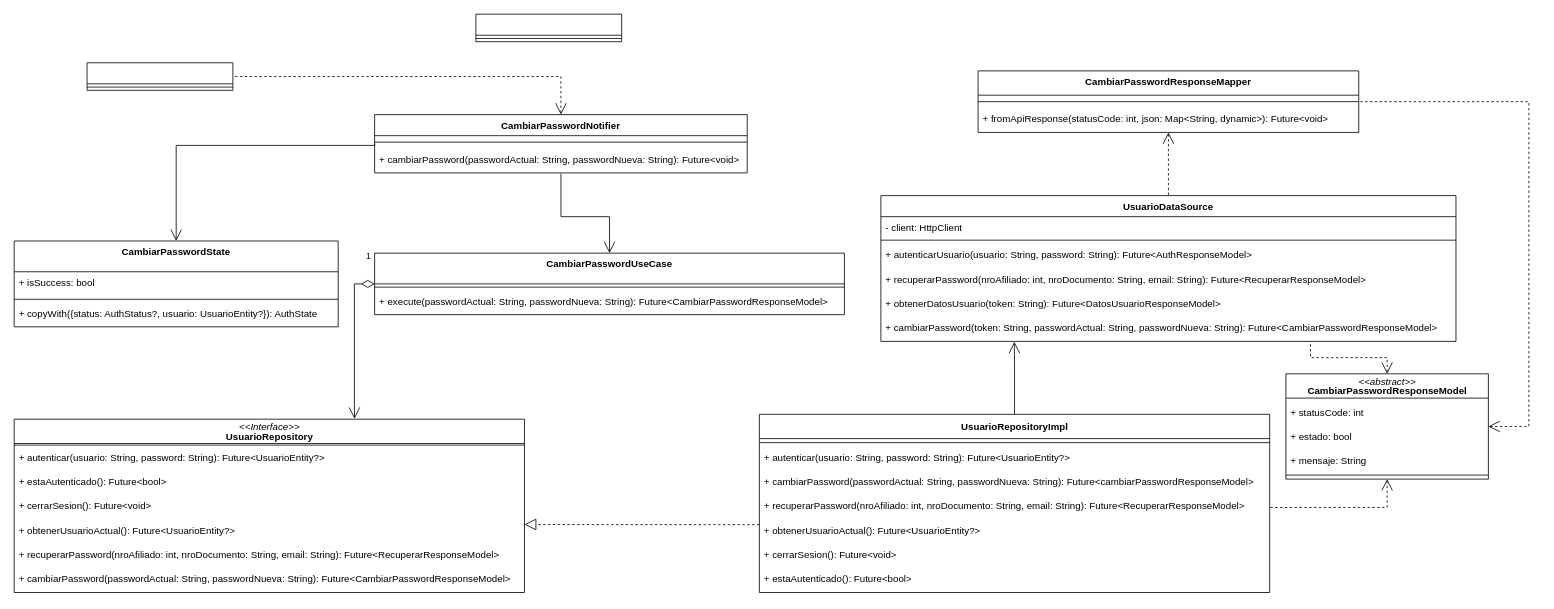
Some shapes in this 1554 by 609 pixel diagram are drawn without their labels. The centre of each missing label's shape, as x and y in pixels:
CambiarPasswordScreen: point (159, 76)
PasswordActualizadaScreen: point (548, 27)
